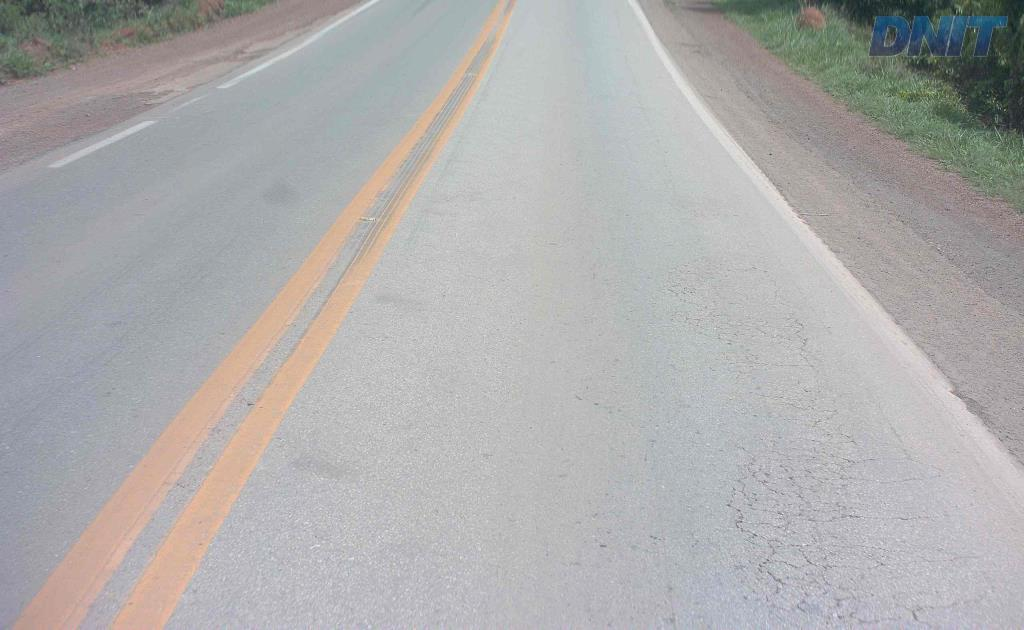crack: (725, 486, 785, 555)
